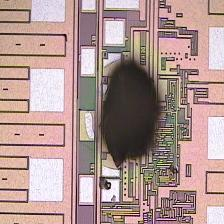PARTICLE: (71, 35, 189, 190)
